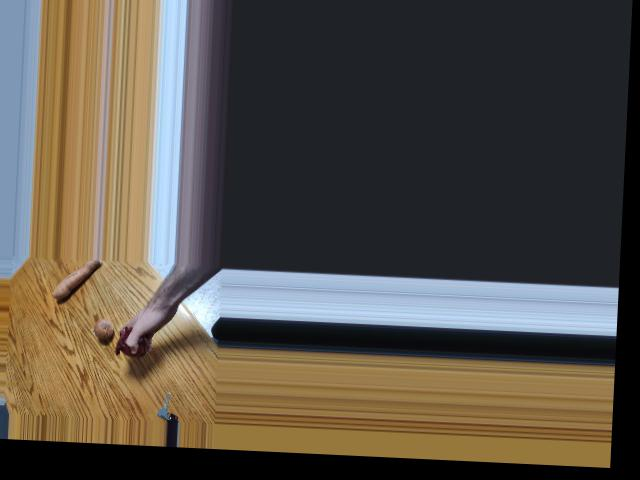onion: (91, 319, 117, 340)
